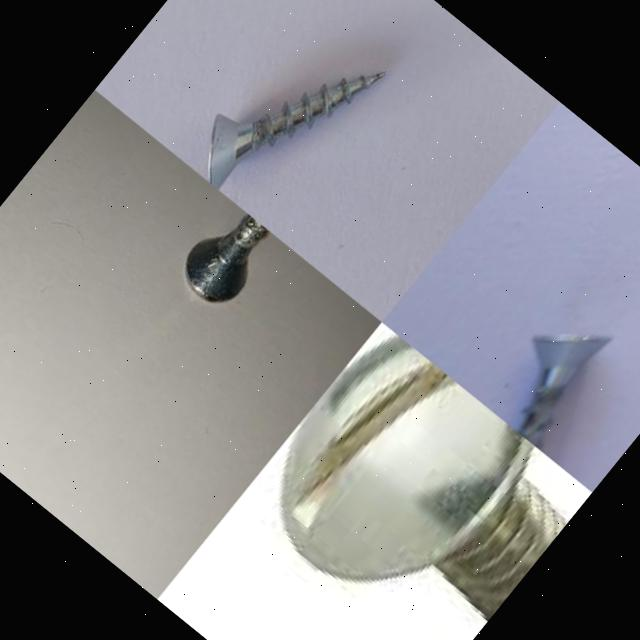Screw: (277, 337, 569, 624), (208, 72, 386, 190), (517, 334, 612, 449), (187, 215, 268, 302)
